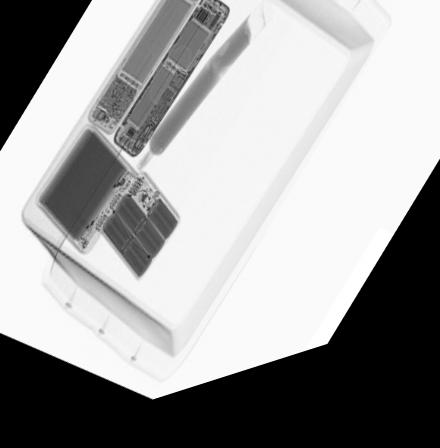Powerbank: (33, 127, 136, 259), (100, 172, 186, 296)
